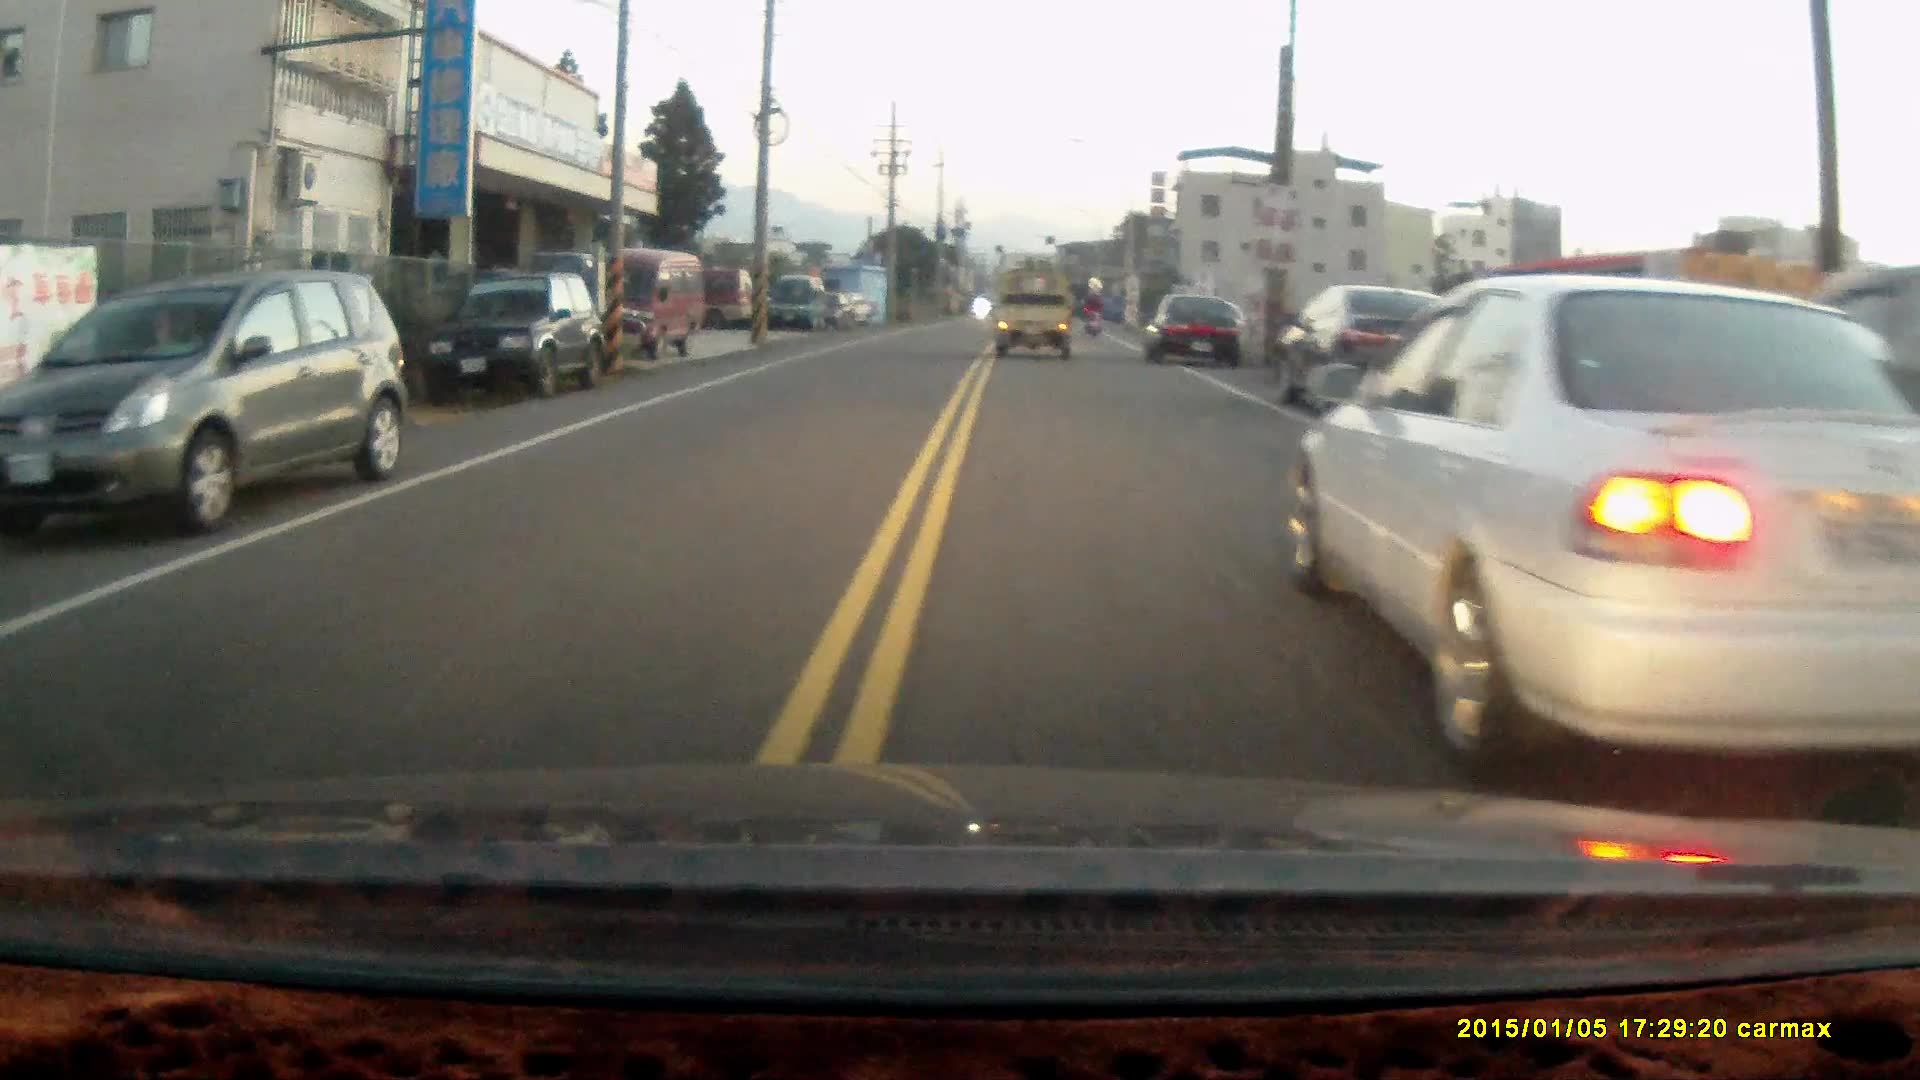rider: (1079, 292, 1105, 340)
vehicle: (1283, 266, 1920, 788), (1, 271, 410, 538), (1271, 283, 1482, 425), (428, 270, 606, 401), (571, 251, 706, 361), (985, 273, 1081, 359), (1144, 293, 1249, 367), (770, 274, 833, 335)
